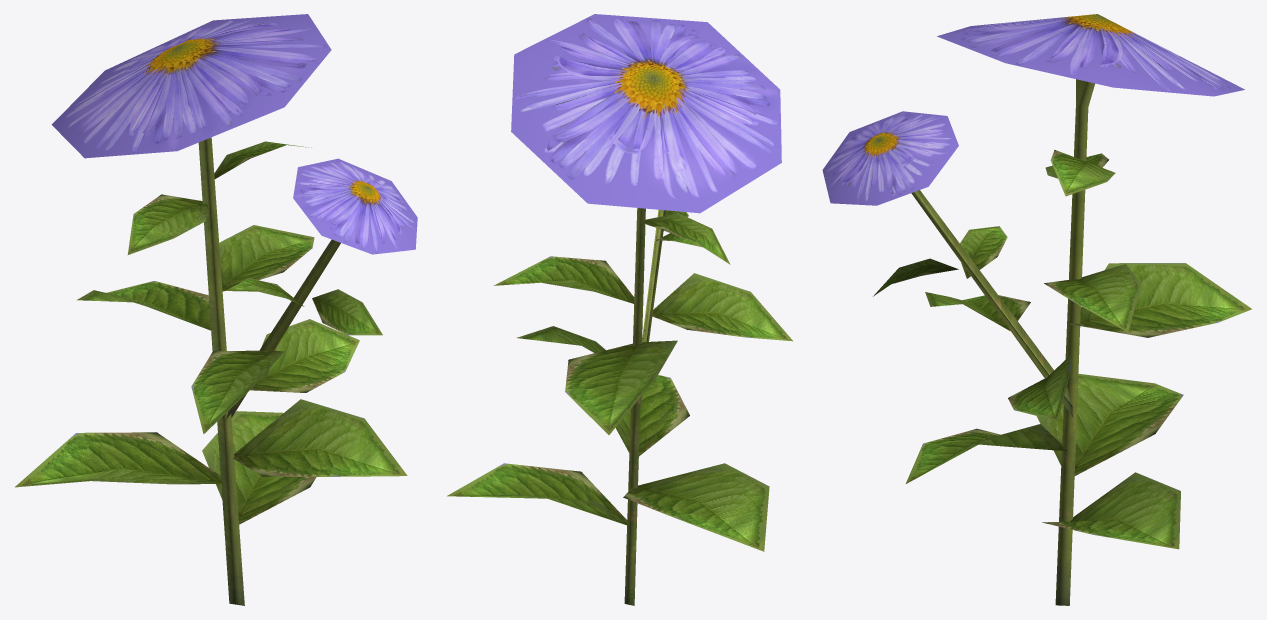
File: Aster Frikartii Monch_m.FBX
The picture shows the model from 3 angles, left to right: view 1: azimuth 30°, elevation 25°; view 2: azimuth 150°, elevation 25°; view 3: azimuth 270°, elevation 25°; orthographic projection. The views are drawn at different scales.
Parts seen in each view (by area): view 1: Aster Frikartii Monch; view 2: Aster Frikartii Monch; view 3: Aster Frikartii Monch.
Boxes of the visible parts, x1,y1,x2,y2 form: Aster Frikartii Monch: [15, 14, 417, 605]; Aster Frikartii Monch: [447, 14, 792, 605]; Aster Frikartii Monch: [822, 14, 1251, 605].
Bounding box in the file's own units: 32.68 × 56.35 × 38.29.
